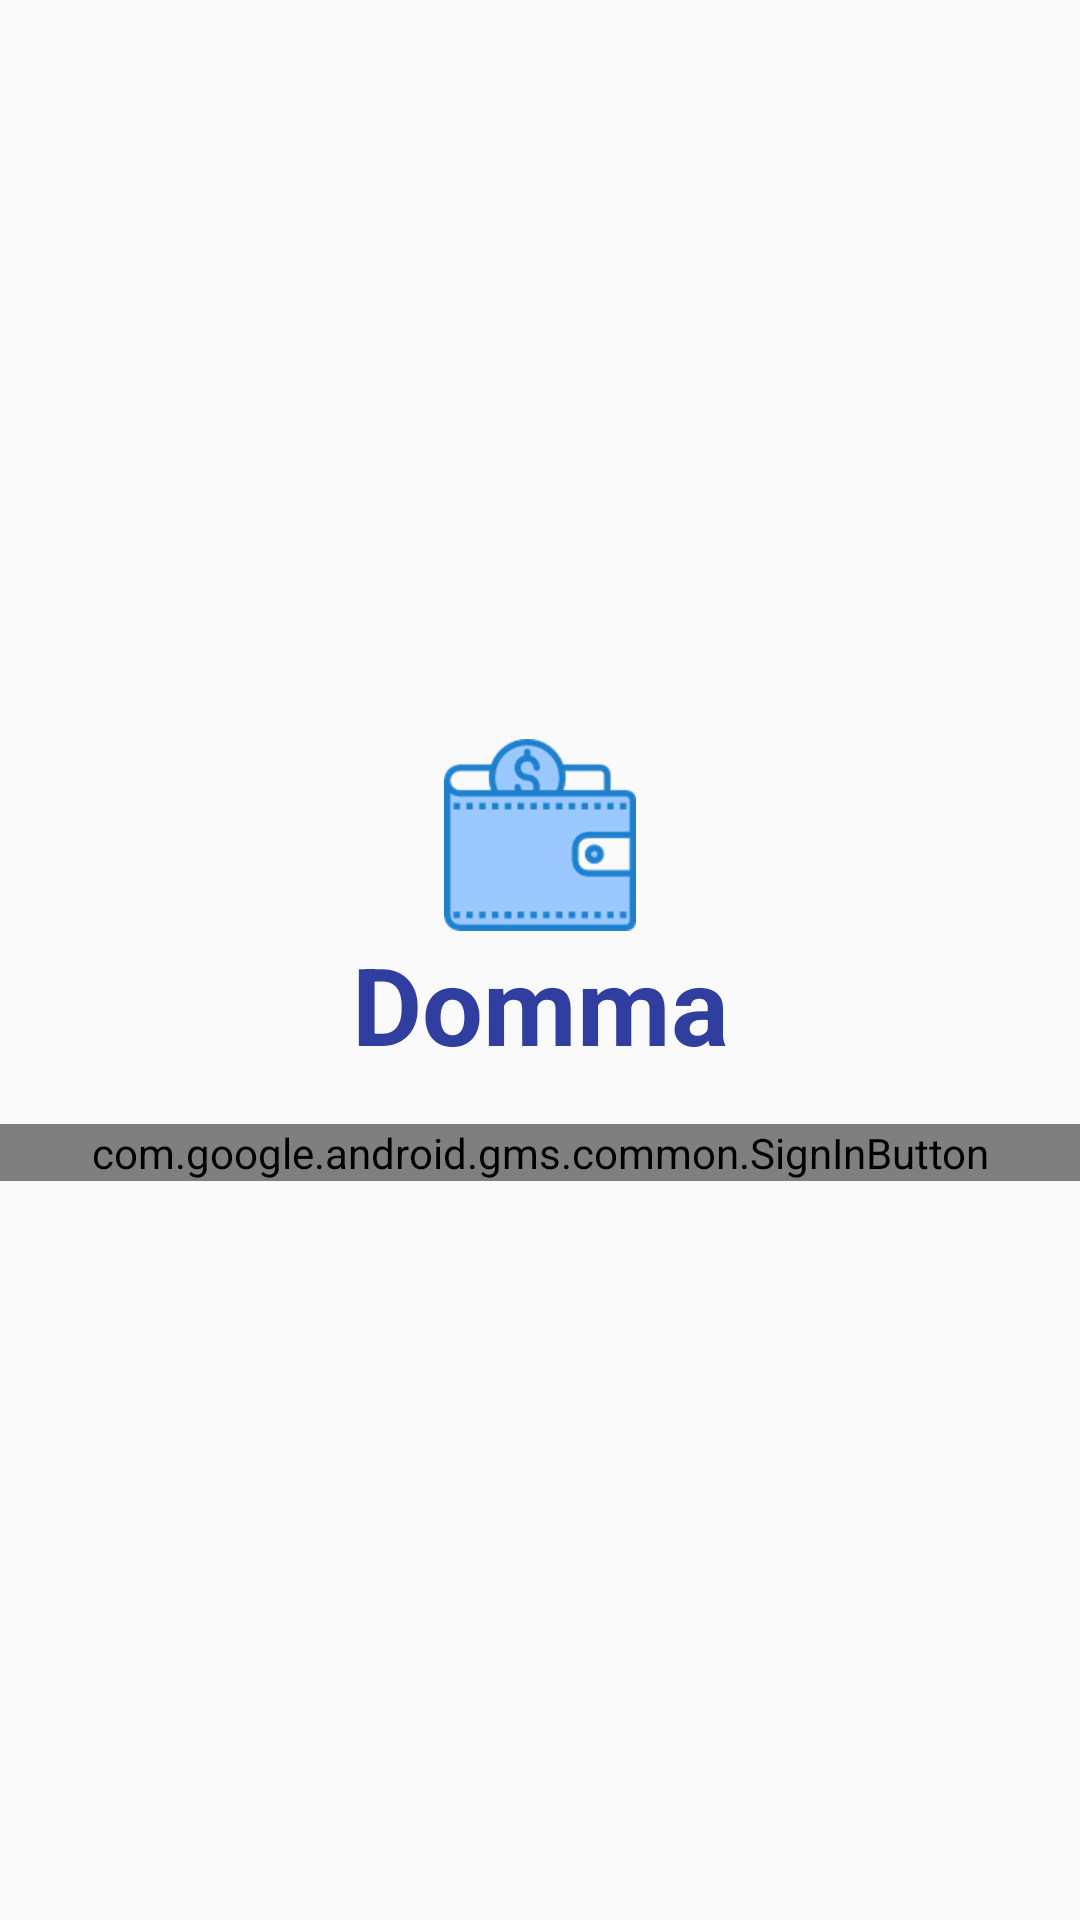

Icons on this 1080 x 1920 Android screen, each with the point to tap as point (x, y):
wallet: point (540, 835)
